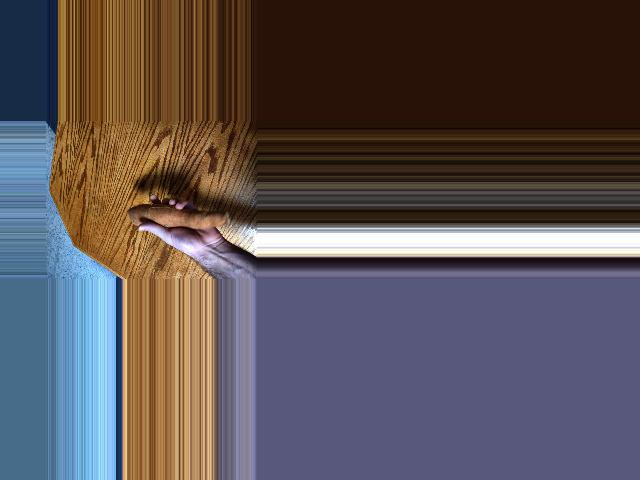sweet_potato: (119, 201, 233, 241)
